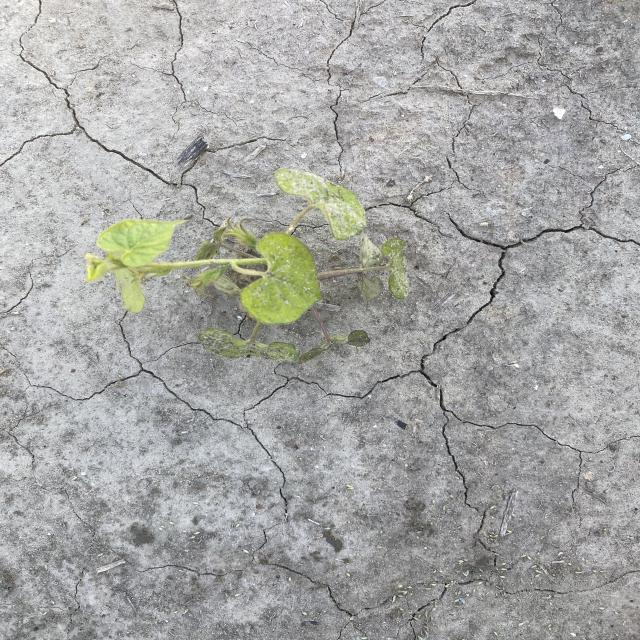MorningGlory: (82, 168, 414, 366)
